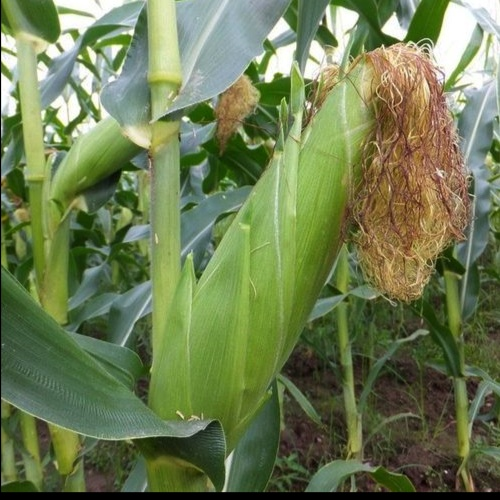corn_plant: (139, 29, 455, 460)
